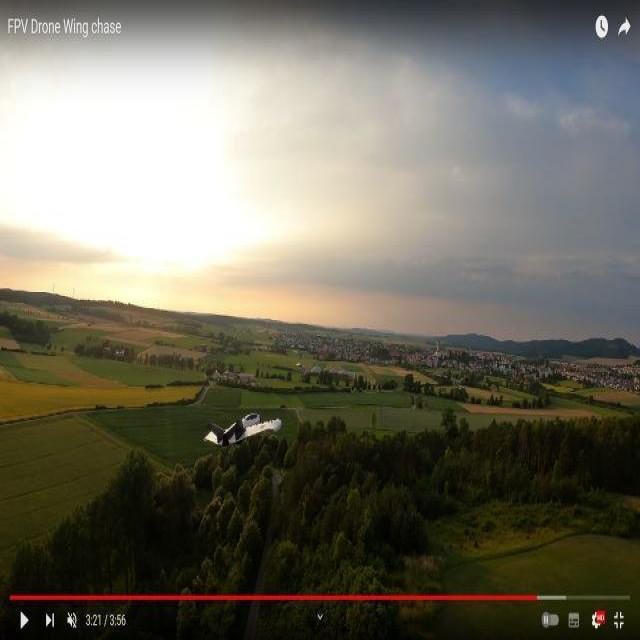iha: (231, 406, 254, 453)
